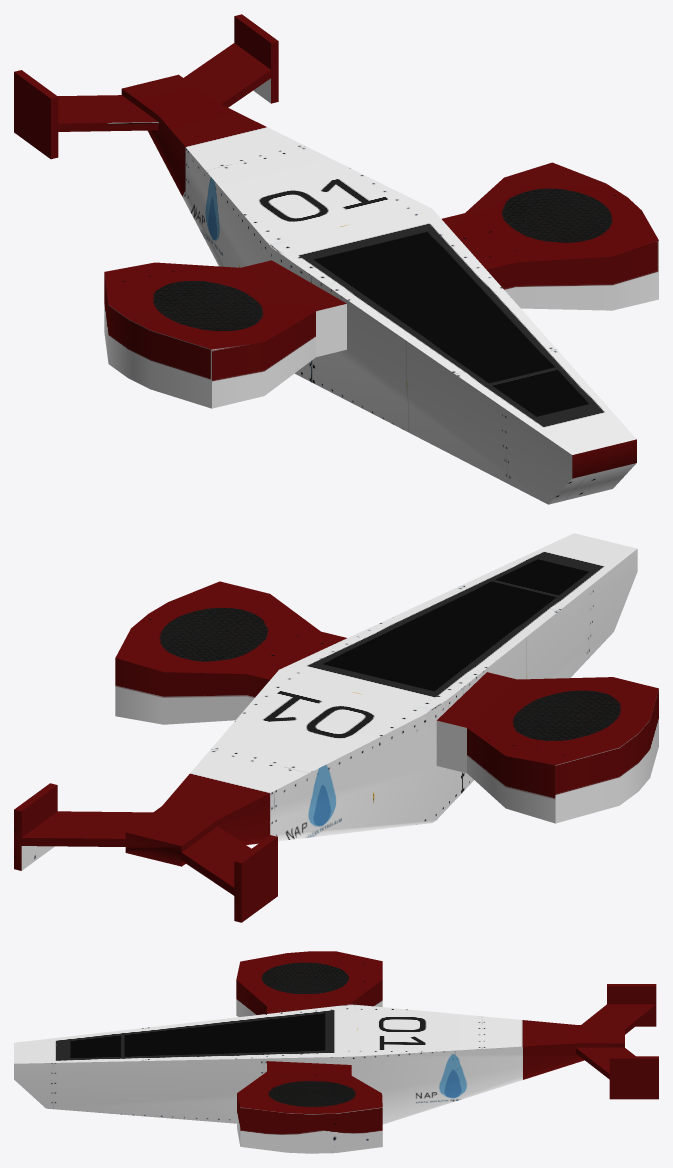
Rendered from player01Ship01.fbx.
3 views of the same model, one above another, from view 1: azimuth 30°, elevation 25°; view 2: azimuth 150°, elevation 25°; view 3: azimuth 270°, elevation 25° (orthographic). The views are drawn at different scales.
Parts seen in each view (by area): view 1: pCube1; view 2: pCube1; view 3: pCube1.
Part boxes in pixels (left/top/right/bottom): pCube1: left=14, top=14, right=658, bottom=504; pCube1: left=14, top=533, right=658, bottom=922; pCube1: left=14, top=951, right=658, bottom=1153.
Bounding box in the file's own units: 13.77 × 3.43 × 23.06.
Materials: 1 (1 with a texture image).
